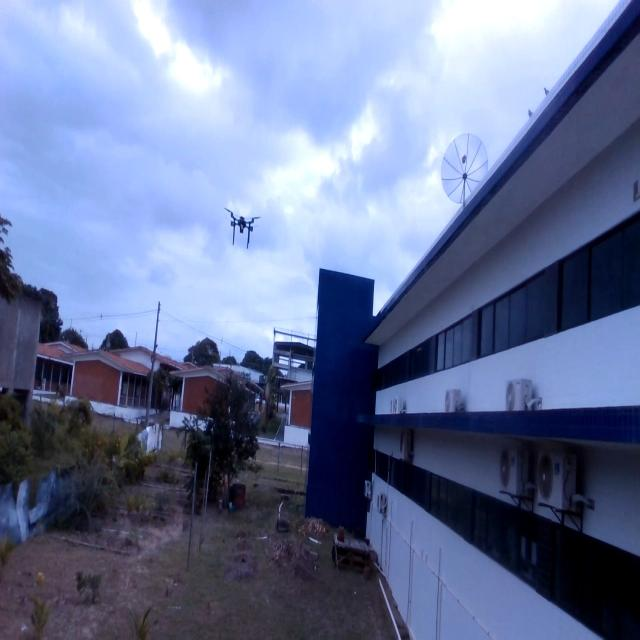-uav-: (222, 197, 261, 259)
